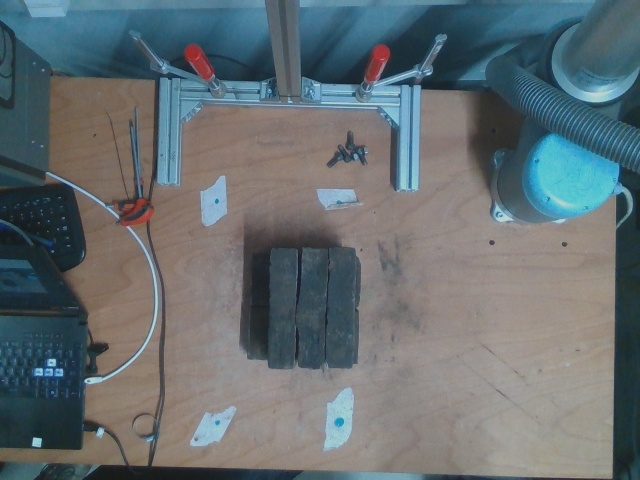brick-side: (326, 249, 354, 367), (298, 250, 326, 368), (269, 249, 296, 367)
